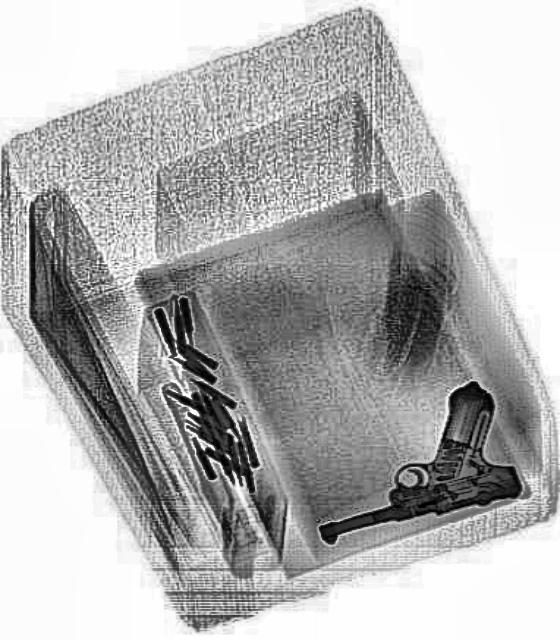Gun: (295, 374, 523, 544)
